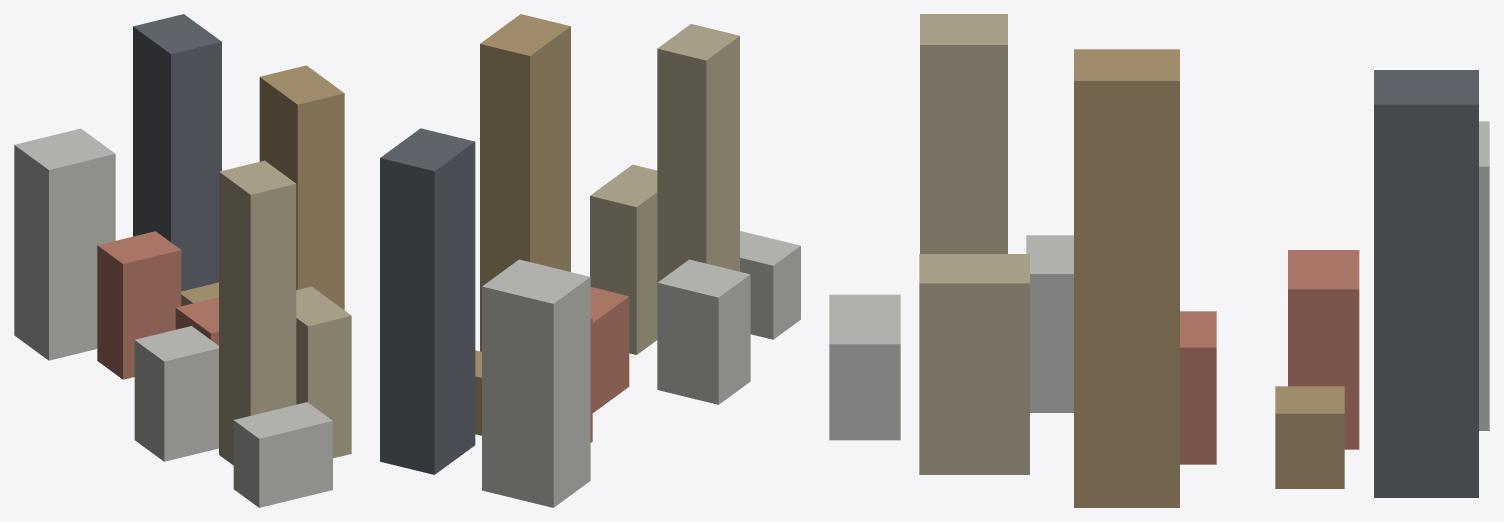
Rendered from synth-18-02.lod2.glb.
The picture shows the model from 3 angles, left to right: view 1: azimuth 30°, elevation 25°; view 2: azimuth 150°, elevation 25°; view 3: azimuth 270°, elevation 25°; orthographic projection. The views are drawn at different scales.
Visible parts, largest first — view 1: synth-18-02; view 2: synth-18-02; view 3: synth-18-02.
Boxes of the visible parts, <box> form: synth-18-02: <box>14,14,351,507</box>; synth-18-02: <box>380,14,800,507</box>; synth-18-02: <box>829,14,1489,507</box>.
Bounding box in the file's own units: 43.54 × 64.82 × 90.87.
